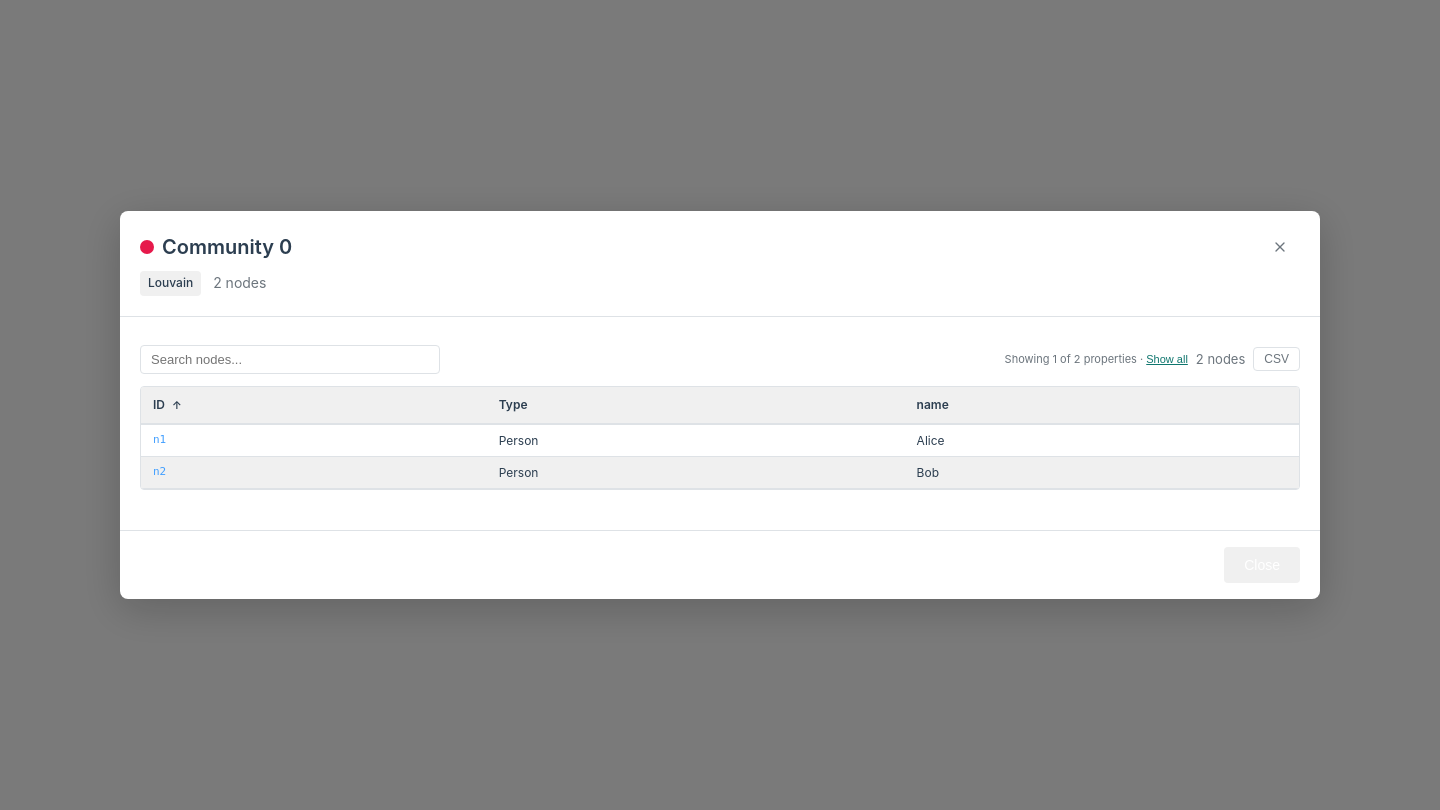
CommunityNodeModal › property visibility allowlist › Show all clears the allowlist and brings every column back
Click the button with class "show-all-btn": click(1167, 359) [1146, 353, 1188, 365]
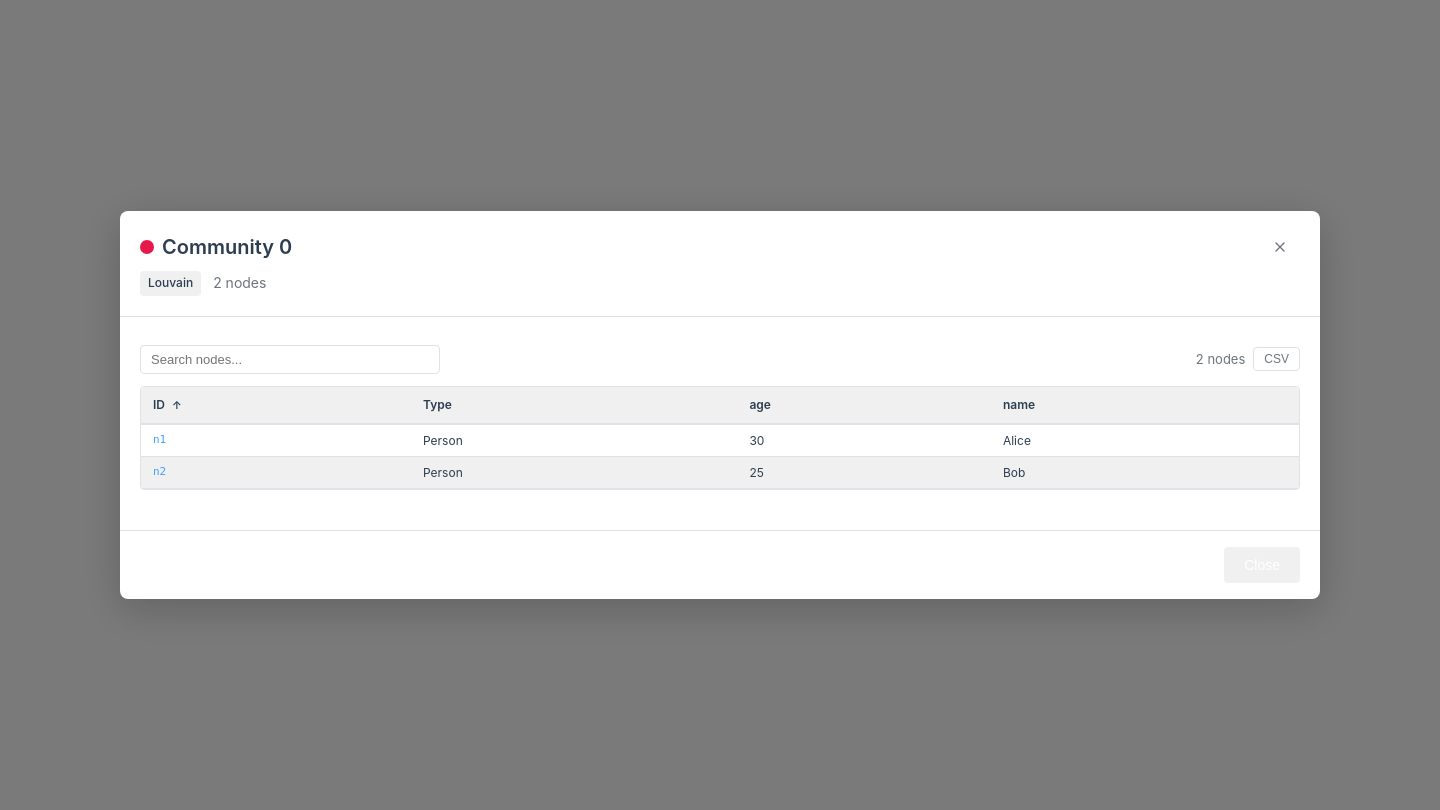
Now the element with test id "property-visibility-hint" is gone
